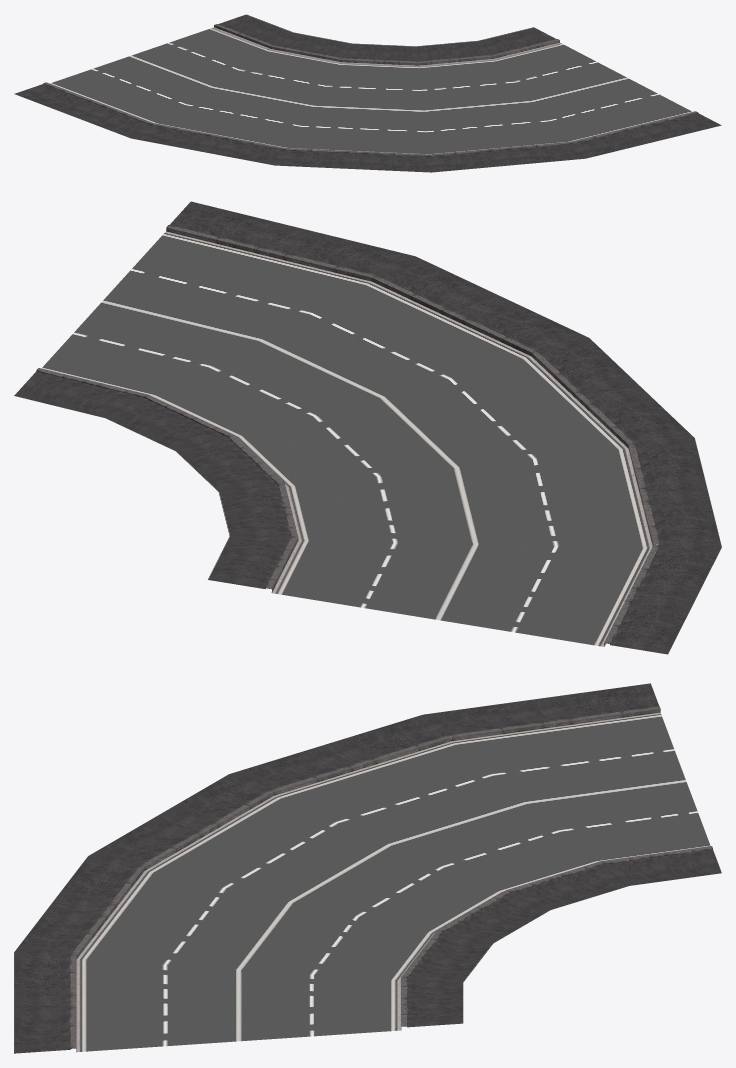
The model's file is 4 lines corner 1_mobile.FBX.
3 renders of one model, top to bottom at view 1: azimuth 30°, elevation 25°; view 2: azimuth 150°, elevation 25°; view 3: azimuth 270°, elevation 25°, orthographic. The views are drawn at different scales.
Parts seen in each view (by area): view 1: Object198; view 2: Object198; view 3: Object198.
Boxes of the visible parts, x1,y1,x2,y2 form: Object198: [14, 14, 721, 172]; Object198: [14, 201, 721, 654]; Object198: [14, 683, 721, 1053].
Size of the model in its own units: 62.2 by 0.3184 by 50.26.
